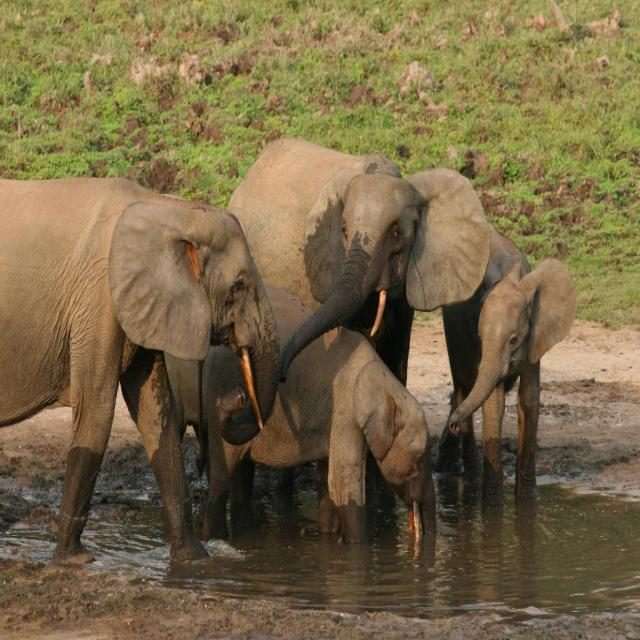elephant: (217, 127, 507, 528), (0, 170, 270, 570), (168, 240, 446, 556), (435, 174, 585, 479)
